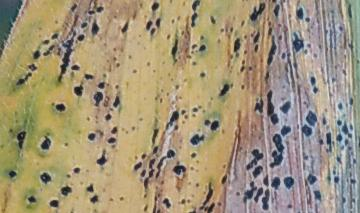tarspot: (58, 31, 77, 83), (270, 134, 284, 168), (199, 182, 213, 210), (246, 148, 263, 170), (250, 2, 266, 22), (267, 37, 277, 66), (166, 109, 180, 129), (292, 31, 304, 53), (245, 181, 256, 204), (266, 89, 274, 116), (18, 72, 32, 87), (156, 158, 166, 179), (306, 110, 318, 127), (190, 133, 205, 146), (17, 130, 26, 150), (262, 189, 270, 211), (171, 38, 178, 63), (97, 149, 107, 166), (282, 176, 295, 189), (252, 164, 263, 179), (279, 100, 291, 113), (91, 18, 99, 37), (93, 91, 103, 106), (43, 44, 55, 56), (39, 171, 51, 183), (281, 124, 292, 137), (41, 136, 51, 150), (326, 130, 332, 153), (254, 99, 263, 114), (219, 84, 229, 97), (271, 176, 281, 189), (272, 2, 280, 18), (307, 174, 318, 185), (190, 12, 198, 27), (210, 119, 220, 131), (233, 37, 241, 52), (302, 124, 312, 136), (296, 6, 304, 21), (172, 165, 185, 174), (261, 173, 269, 187), (255, 188, 263, 202), (55, 102, 66, 112), (166, 148, 176, 159), (312, 189, 322, 200), (61, 187, 72, 197), (74, 85, 83, 97), (152, 128, 158, 146), (346, 3, 353, 18), (191, 1, 201, 11), (120, 21, 129, 32), (48, 199, 59, 208), (271, 113, 279, 125), (113, 95, 120, 108), (28, 62, 37, 72), (76, 32, 85, 42), (95, 5, 105, 14), (33, 49, 41, 60), (209, 14, 217, 25), (253, 32, 261, 43), (220, 174, 228, 185), (163, 197, 171, 208), (342, 122, 349, 134), (90, 195, 99, 204), (83, 73, 93, 81), (106, 136, 116, 144), (145, 20, 153, 30), (151, 1, 159, 11), (143, 177, 149, 190), (70, 64, 81, 71), (26, 196, 37, 203), (104, 113, 113, 121), (70, 3, 78, 12), (134, 161, 142, 170), (335, 133, 343, 142), (147, 169, 155, 178), (87, 184, 95, 193), (8, 170, 17, 178), (148, 159, 155, 169), (152, 145, 158, 156), (264, 71, 269, 84), (88, 133, 96, 141), (110, 126, 118, 134), (55, 47, 62, 56), (309, 76, 316, 85), (267, 27, 273, 37), (208, 203, 214, 213), (51, 32, 58, 40), (80, 22, 88, 29), (199, 44, 206, 52), (189, 151, 197, 158), (335, 118, 342, 126), (156, 17, 161, 28), (204, 118, 210, 127), (343, 137, 349, 146), (340, 195, 346, 204), (131, 11, 137, 20), (98, 82, 105, 89), (199, 71, 206, 78), (190, 43, 197, 50), (191, 106, 198, 113), (173, 83, 180, 90), (336, 156, 343, 163), (351, 157, 358, 164), (303, 154, 310, 161), (276, 21, 283, 28), (350, 177, 357, 184), (333, 176, 340, 183), (139, 170, 146, 177), (72, 167, 80, 173), (228, 25, 234, 33), (240, 58, 246, 66), (337, 102, 343, 110), (341, 68, 347, 76), (235, 189, 241, 197), (240, 18, 245, 27), (254, 44, 259, 53), (281, 51, 286, 60), (322, 116, 327, 125), (349, 97, 354, 106), (152, 202, 156, 213), (114, 83, 120, 90), (43, 39, 50, 45), (174, 123, 180, 130), (318, 138, 324, 145), (137, 116, 144, 122), (221, 162, 227, 169), (151, 28, 156, 36), (180, 30, 185, 38), (313, 86, 318, 94), (349, 122, 354, 130), (331, 76, 336, 84), (181, 197, 186, 205), (143, 204, 148, 212), (8, 127, 14, 133), (63, 141, 69, 147), (98, 130, 104, 136), (112, 46, 118, 52), (186, 54, 192, 60), (180, 109, 186, 115), (219, 27, 225, 33), (247, 66, 253, 72), (348, 43, 354, 49), (306, 42, 312, 48), (189, 165, 195, 171), (142, 193, 148, 199), (118, 195, 124, 201), (88, 10, 95, 15), (132, 68, 137, 75), (176, 14, 181, 21), (141, 153, 146, 160), (192, 60, 197, 67), (158, 97, 163, 104), (217, 37, 222, 44), (243, 33, 248, 40), (240, 66, 245, 73), (304, 17, 311, 22), (339, 25, 344, 32), (348, 132, 353, 139), (313, 52, 318, 59), (217, 200, 222, 207), (190, 208, 197, 213), (195, 181, 200, 188), (86, 116, 92, 121), (115, 62, 121, 67), (166, 34, 171, 40), (170, 19, 175, 25), (191, 112, 196, 118), (131, 125, 136, 131), (243, 49, 248, 55), (277, 34, 282, 40), (267, 20, 272, 26), (351, 197, 356, 203), (287, 204, 293, 209), (66, 173, 71, 179), (108, 197, 114, 202), (332, 169, 336, 176), (154, 195, 158, 202), (112, 56, 117, 61), (146, 61, 151, 66), (184, 114, 189, 119), (110, 144, 115, 149), (134, 155, 139, 160), (103, 73, 107, 79), (128, 54, 132, 60), (200, 35, 204, 41), (241, 84, 245, 90), (230, 53, 234, 59), (204, 206, 208, 212), (161, 180, 165, 186), (139, 2, 143, 8), (54, 20, 59, 24), (188, 198, 191, 204), (168, 1, 174, 4), (124, 131, 129, 134), (199, 105, 202, 109), (251, 33, 254, 37), (157, 210, 161, 213), (272, 1, 277, 3)
